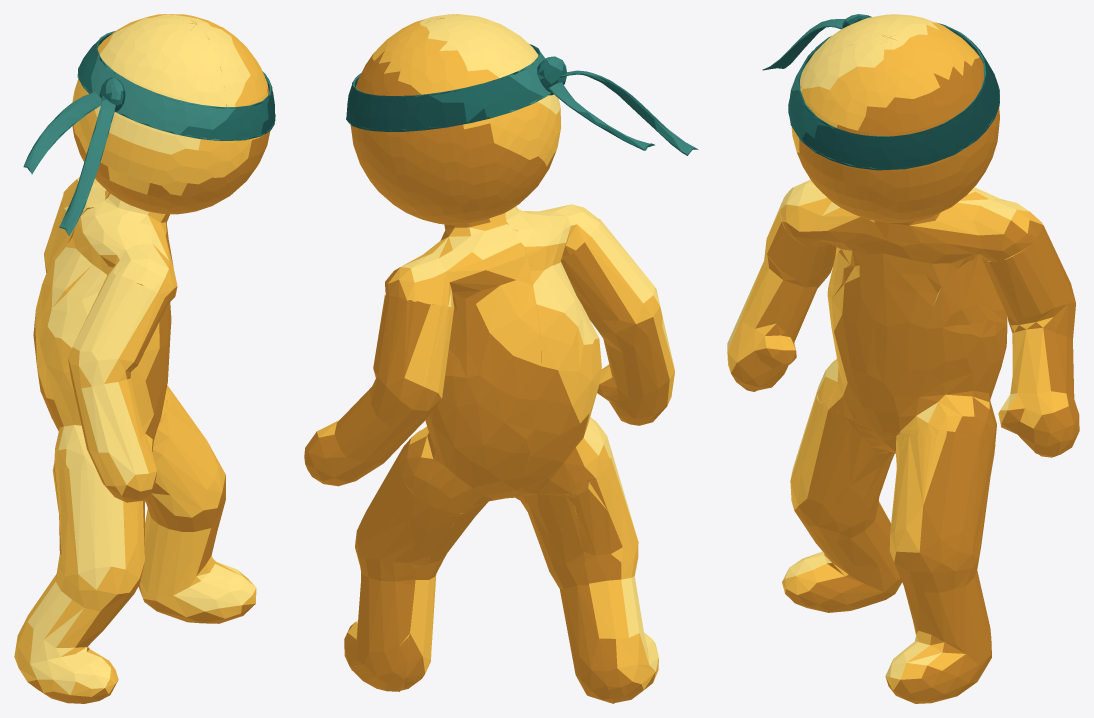
File: Ninja_Idle1_R.gltf
The picture shows the model from 3 angles, left to right: view 1: azimuth 30°, elevation 25°; view 2: azimuth 150°, elevation 25°; view 3: azimuth 270°, elevation 25°; orthographic projection. The views are drawn at different scales.
Visible parts, largest first — view 1: Ninja_Idle1_R_baked; view 2: Ninja_Idle1_R_baked; view 3: Ninja_Idle1_R_baked.
Part boxes in pixels (x1,y1,x2,y2): Ninja_Idle1_R_baked: (14, 14, 275, 703); Ninja_Idle1_R_baked: (304, 14, 698, 703); Ninja_Idle1_R_baked: (727, 14, 1079, 703).
Size of the model in its own units: 0.4314 by 1 by 0.4915.
